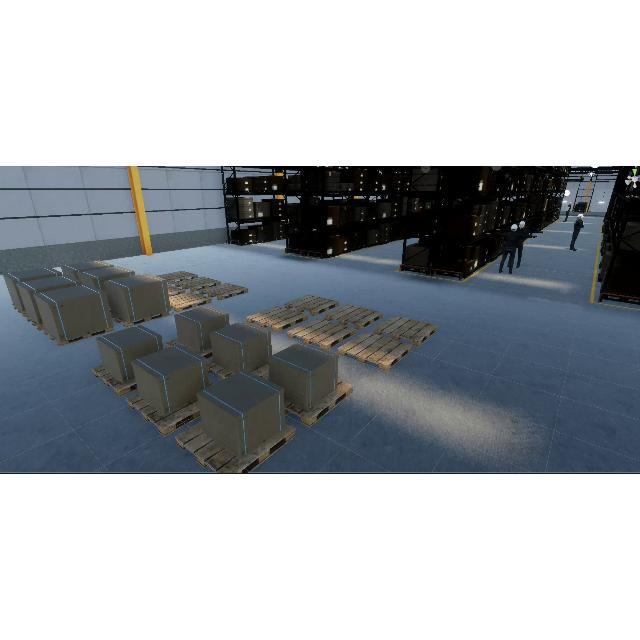wooden_pallet: (174, 422, 296, 474), (126, 392, 201, 437), (284, 379, 353, 427), (337, 332, 412, 371), (287, 318, 355, 351), (372, 315, 437, 346), (246, 305, 308, 333), (324, 304, 383, 330), (92, 364, 137, 398), (43, 328, 115, 346), (283, 295, 340, 316), (169, 291, 213, 312), (110, 312, 170, 327), (199, 283, 249, 301), (174, 276, 221, 291), (156, 271, 198, 284)
